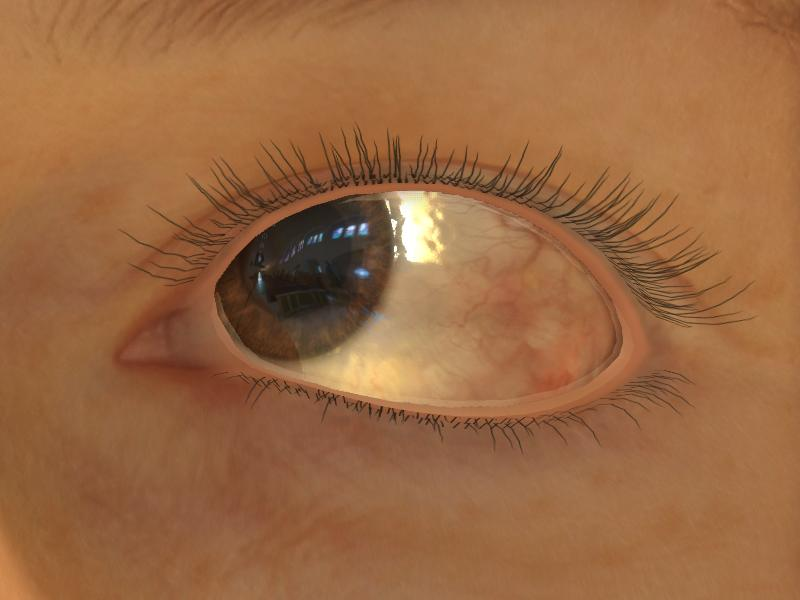eye: (222, 179, 387, 357)
